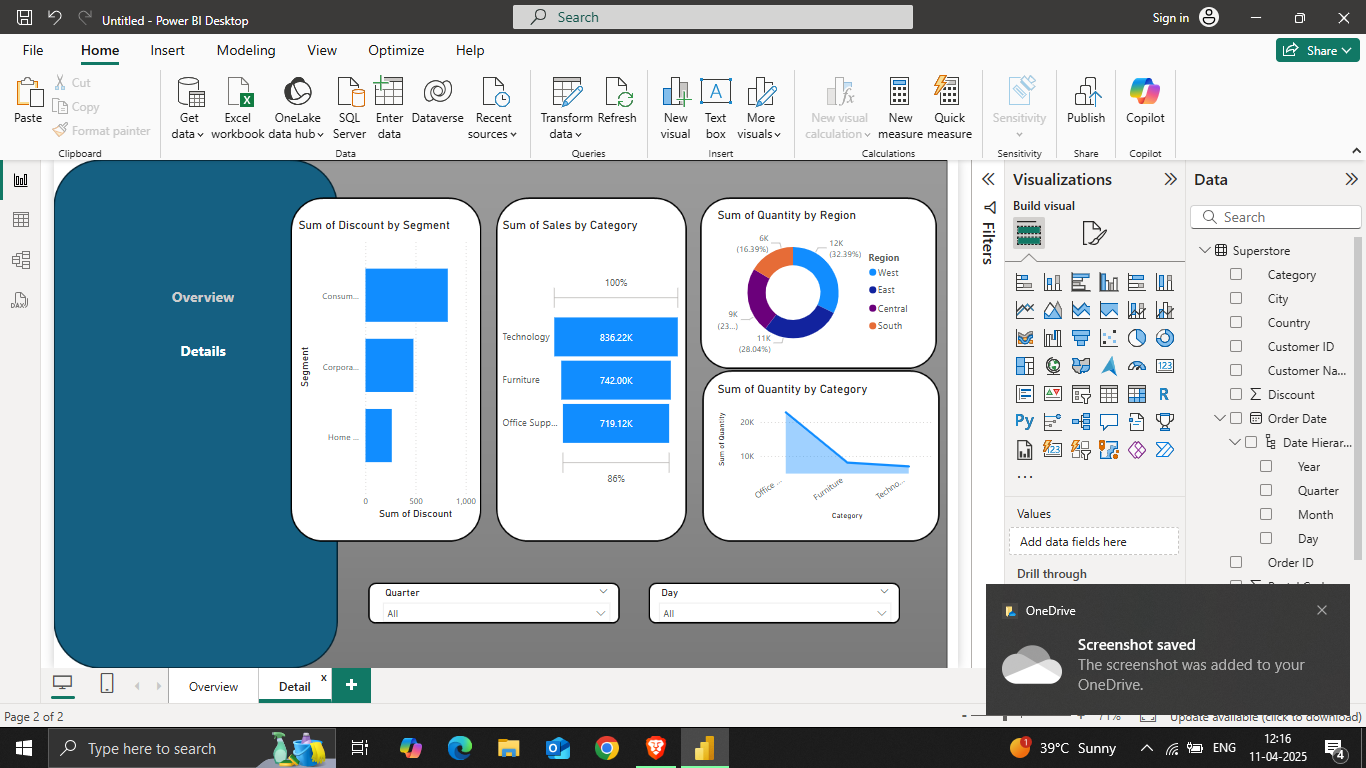

This screenshot's page, from the dashboard's own definition file:
{"tool":"powerbi","page":{"name":"Detail","canvas":[1280,720],"ordinal":1},"visuals":[{"type":"actionButton","box":[110.6,172.9,201.3,39.7],"z":6000},{"type":"actionButton","box":[110.6,249.4,201.3,39.7],"z":7000},{"type":"donutChart","fields":{"Category":["Superstore.Region"],"Y":["Sum(Superstore.Quantity)"]},"box":[935.4,68,289.1,221.1],"z":7001},{"type":"funnel","fields":{"Category":["Superstore.Category"],"Y":["Sum(Superstore.Sales)"]},"box":[630.7,82.2,263.6,439.4],"z":7002},{"type":"barChart","fields":{"Category":["Superstore.Segment"],"Y":["Sum(Superstore.Discount)"]},"box":[341.6,82.2,262.2,432.3],"z":7003},{"type":"areaChart","fields":{"Category":["Superstore.Category"],"Y":["Sum(Superstore.Quantity)"]},"box":[935.4,314.6,316.1,199.8],"z":7004},{"type":"slicer","fields":{"Values":["Superstore.Order Date.Variation.Date Hierarchy.Quarter"]},"box":[456.4,599.5,341.6,55.3],"z":7005},{"type":"slicer","fields":{"Values":["Superstore.Order Date.Variation.Date Hierarchy.Day"]},"box":[847.6,599.5,348.7,56.7],"z":7006}]}

Visuals, with their boxes on the page's 1280x720 design canvas (x1, y1, x2, y2). These are canvas units, not pixel positions in the 1366x768 screenshot, which may show the page scaled, cropped or inside an application window:
actionButton: select_region(111, 173, 312, 213)
actionButton: select_region(111, 249, 312, 289)
donutChart - Superstore.Region x Sum(Superstore.Quantity): select_region(935, 68, 1224, 289)
funnel - Superstore.Category x Sum(Superstore.Sales): select_region(631, 82, 894, 522)
barChart - Superstore.Segment x Sum(Superstore.Discount): select_region(342, 82, 604, 514)
areaChart - Superstore.Category x Sum(Superstore.Quantity): select_region(935, 315, 1252, 514)
slicer - Superstore.Order Date.Variation.Date Hierarchy.Quarter: select_region(456, 600, 798, 655)
slicer - Superstore.Order Date.Variation.Date Hierarchy.Day: select_region(848, 600, 1196, 656)
